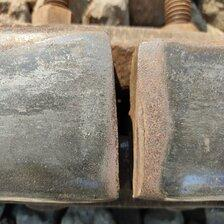railway-gap: (48, 24, 201, 212)
